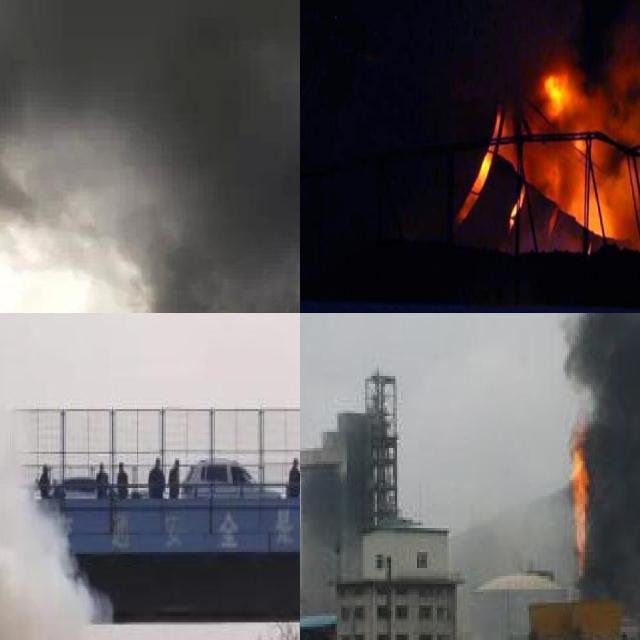fire: (470, 67, 640, 235), (565, 421, 593, 571), (541, 69, 573, 111)
smoke: (0, 319, 103, 640), (560, 313, 640, 627), (127, 283, 300, 313)
